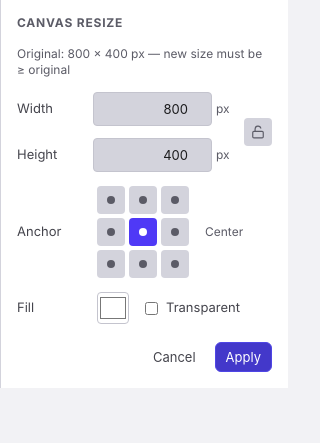
Test: CanvasResizeDialog — size fields › refuses a canvas beyond the size limit and says why
Replace the text in the number field labelled "Width px" with "30000" at [152, 109], box [93,92,212,126]
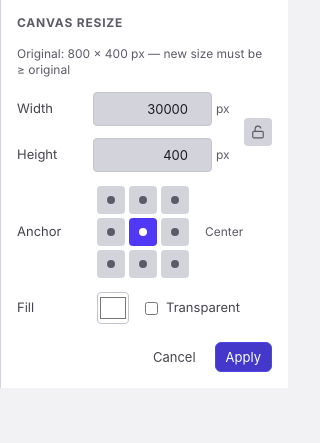
Replace the text in the number field labelled "Height px" with "30000" at [152, 155], box [93,138,212,172]
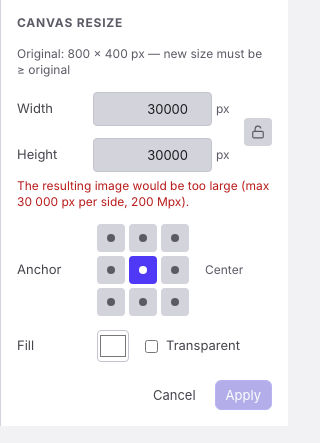
Expected: the button "Apply" is disabled, [215,380,272,410]
Expected: the message shows "too large", [17,178,269,209]
